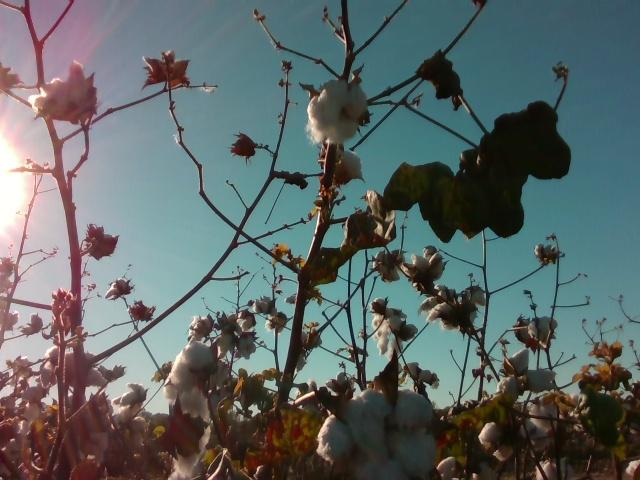cotton_ready: (315, 391, 437, 480), (306, 78, 368, 144), (171, 392, 213, 480), (29, 59, 90, 116), (163, 344, 232, 394), (49, 346, 110, 388), (374, 309, 417, 354), (509, 351, 557, 391), (479, 419, 517, 464), (427, 300, 480, 331), (328, 149, 368, 187), (404, 251, 449, 279), (141, 49, 191, 73), (528, 401, 560, 430), (528, 314, 558, 343)
